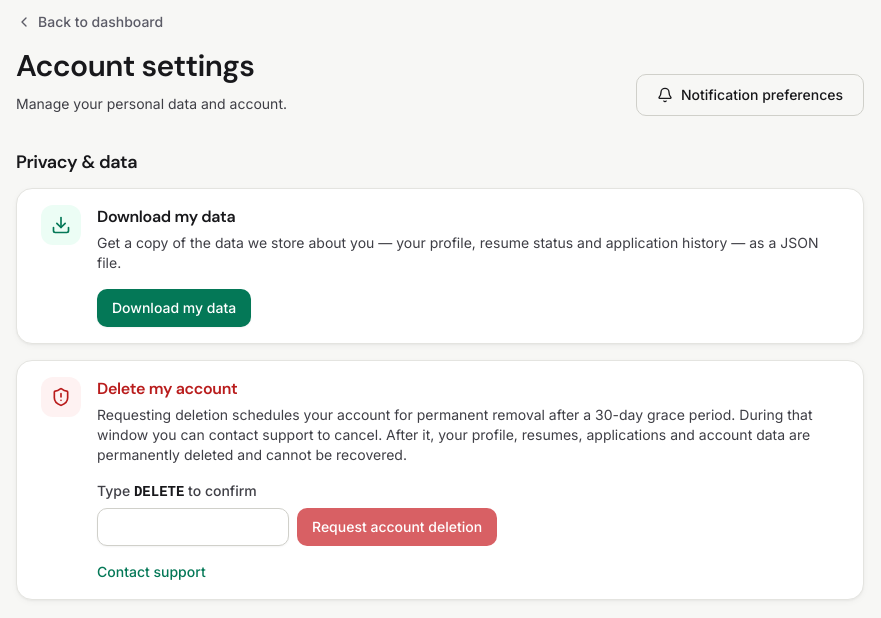
Test: CandidateSettingsPage › requires the type-to-confirm phrase before deletion can be requested
expect the button "Request account deletion" is disabled: met, box [297, 508, 497, 546]
Type "DELETE" into the field labelled "Type DELETE to confirm". click: coordinates (193, 527)
box: [97, 508, 289, 546]
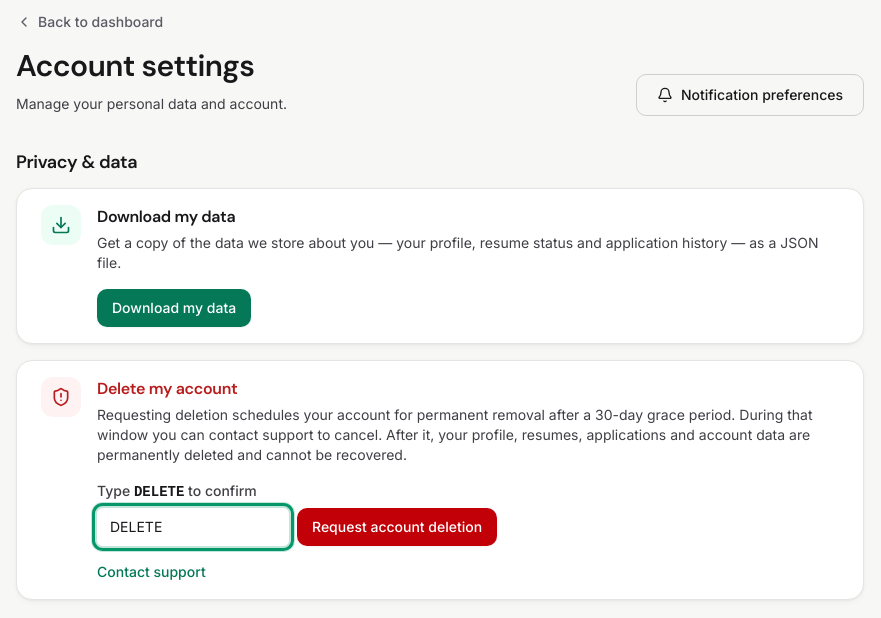
expect the button "Request account deletion" is enabled: met, box [297, 508, 497, 546]
